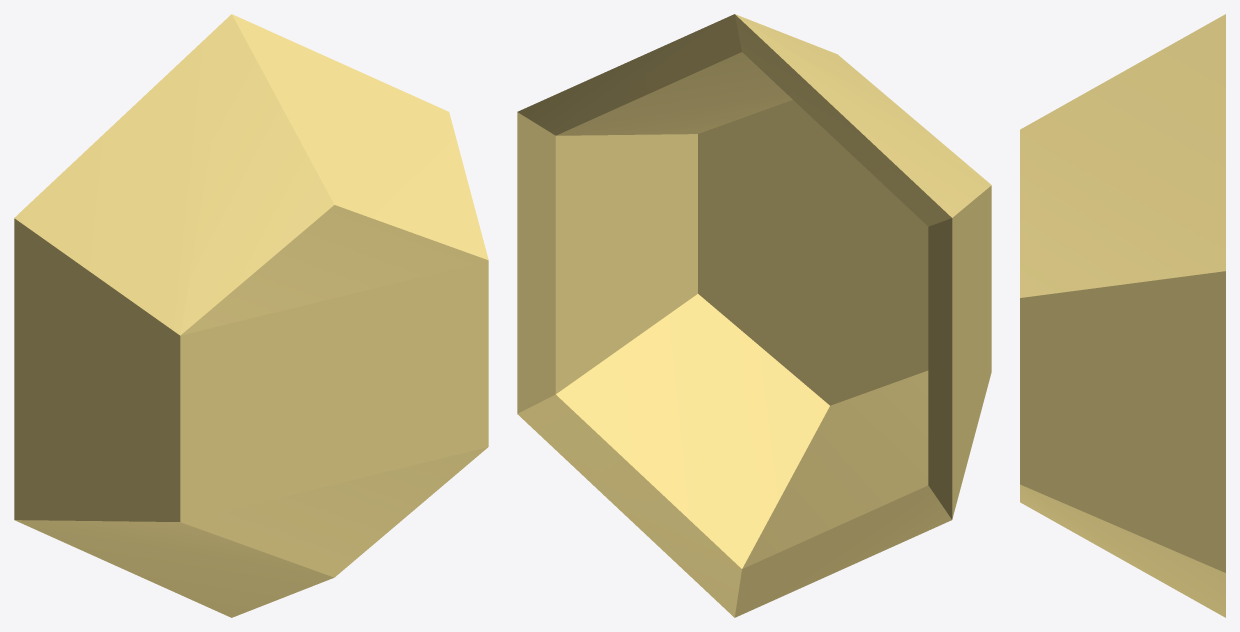
The model's file is lamp.obj.
3 views of the same model, side by side, from view 1: azimuth 30°, elevation 25°; view 2: azimuth 150°, elevation 25°; view 3: azimuth 270°, elevation 25° (orthographic).
Visible parts, largest first — view 1: lampWall; view 2: lampWall; view 3: lampWall.
Part boxes in pixels (left/top/right/bottom): lampWall: left=14, top=14, right=488, bottom=617; lampWall: left=517, top=14, right=991, bottom=617; lampWall: left=1020, top=14, right=1225, bottom=617.
Size of the model in its own units: 0.9827 by 1.3 by 0.4024.
